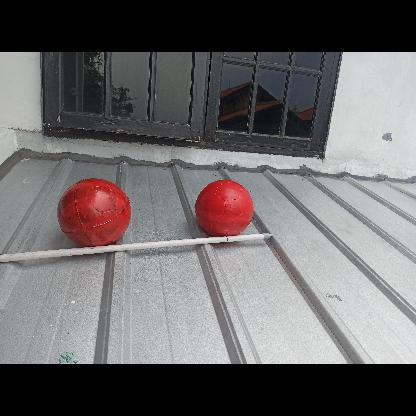red_ball: (60, 174, 132, 246), (196, 180, 254, 236)
